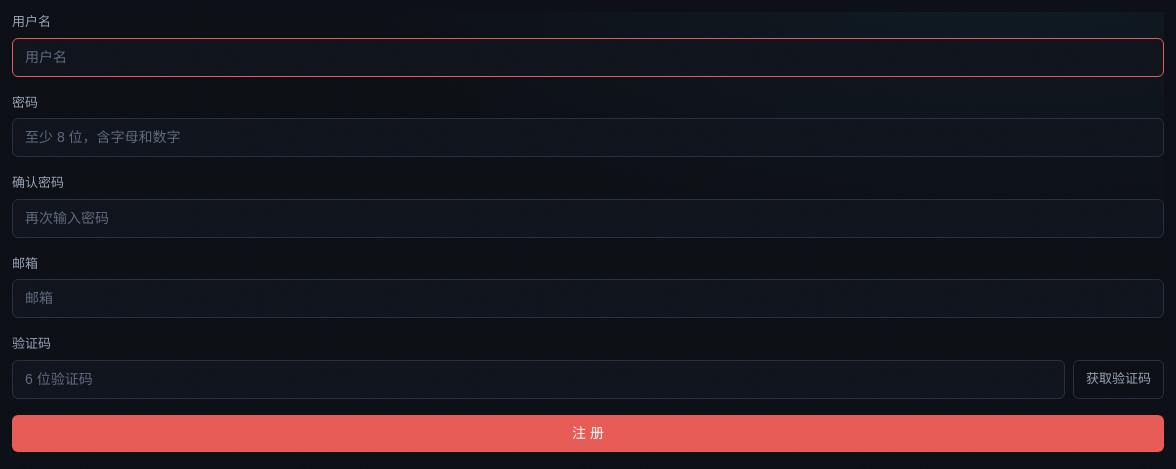
RegisterForm › 发送验证码后 60s 倒计时内禁用重发，unmount 清理定时器
Type "newbie" into the field with placeholder "用户名" at (588, 57), box [12,38,1164,76]
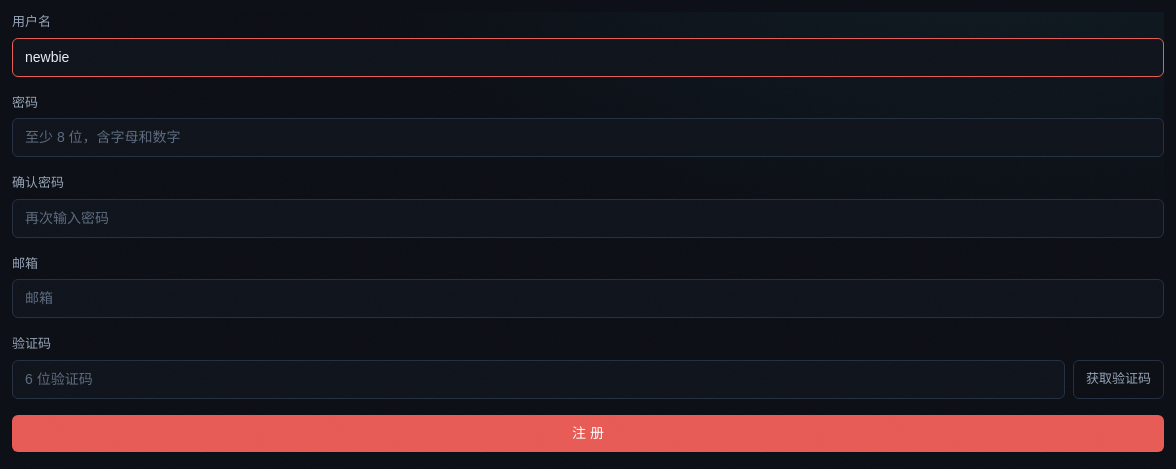
Type "passw0rd" into the password field with placeholder "至少 8 位，含字母和数字" at (588, 138), box [12,118,1164,157]
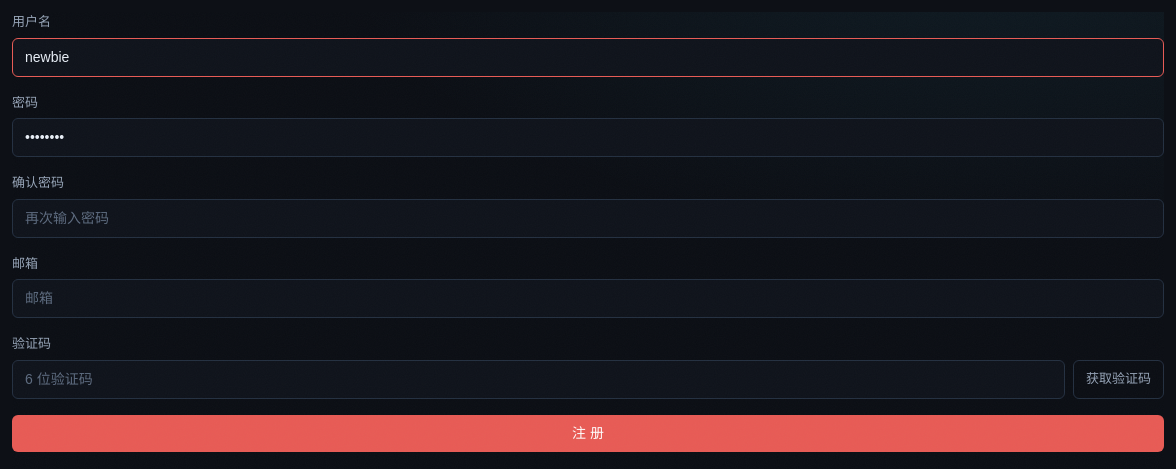
Type "passw0rd" into the password field with placeholder "再次输入密码" at (588, 218), box [12,198,1164,238]
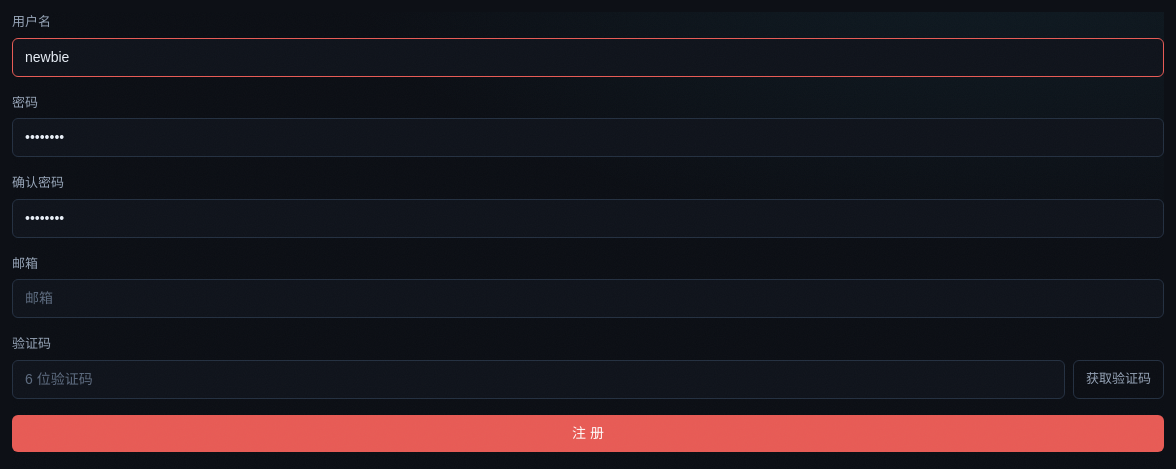
Type "newbie@example.com" into the field with placeholder "邮箱" at (588, 298), box [12,279,1164,318]
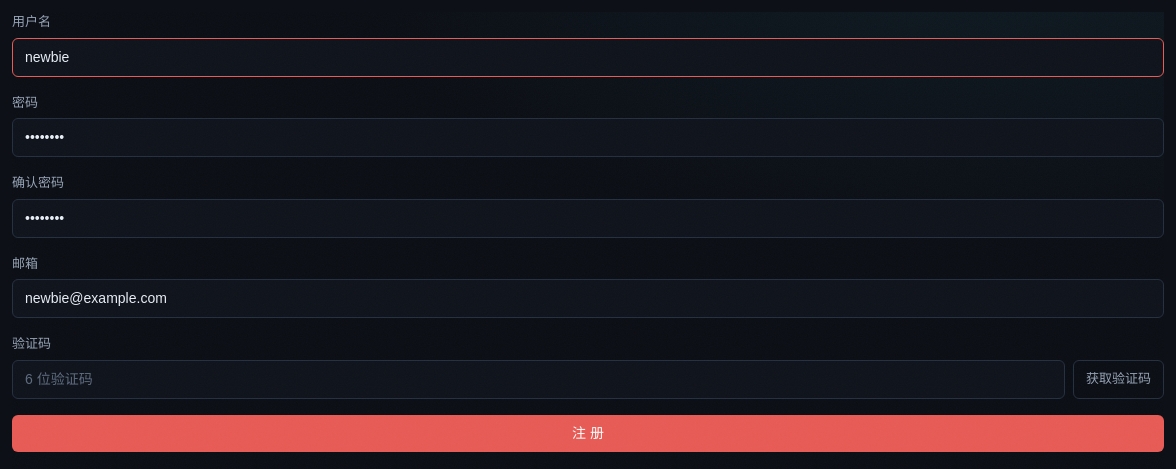
Type "123456" into the field with placeholder "6 位验证码" at (538, 379), box [12,360,1065,398]
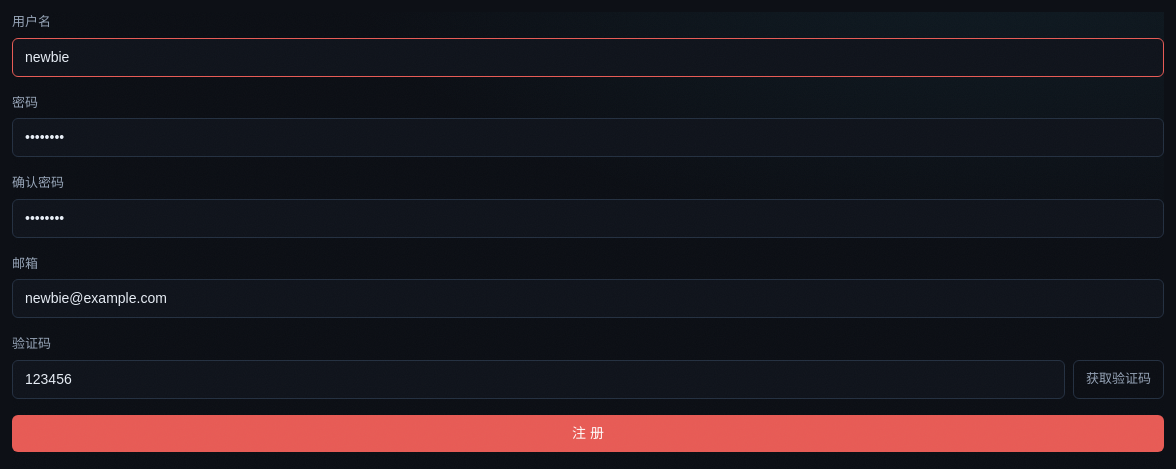
Click the button "获取验证码" at (1118, 379), box [1073,360,1164,398]
Wait 1000 ms
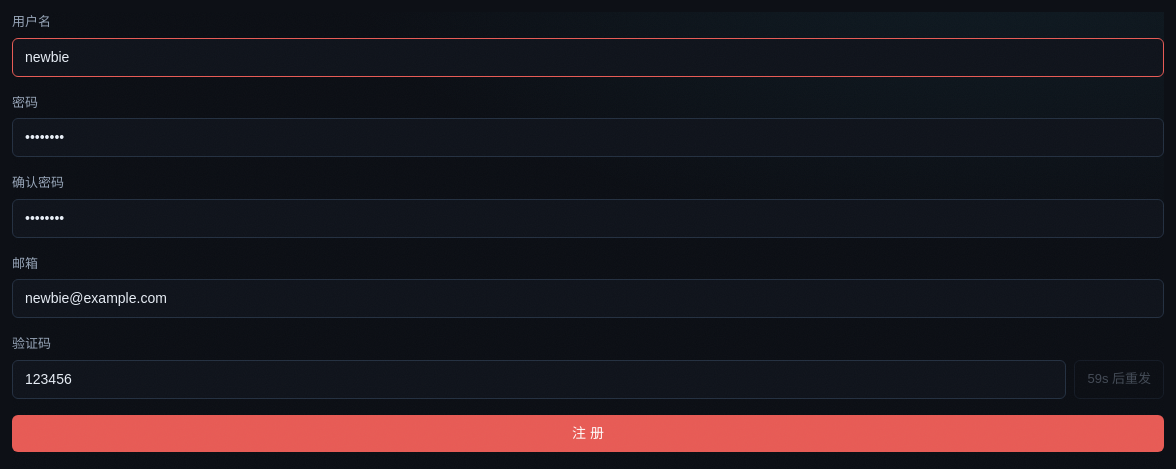
expect the button "60s 后重发" is disabled: met, box [1074,360,1164,398]
